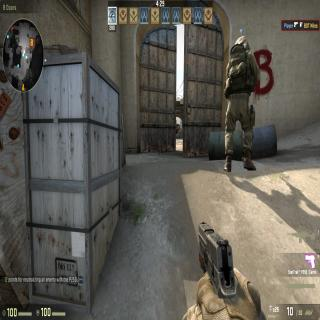CT-Body: (224, 32, 262, 172)
CT-Head: (232, 33, 252, 56)
